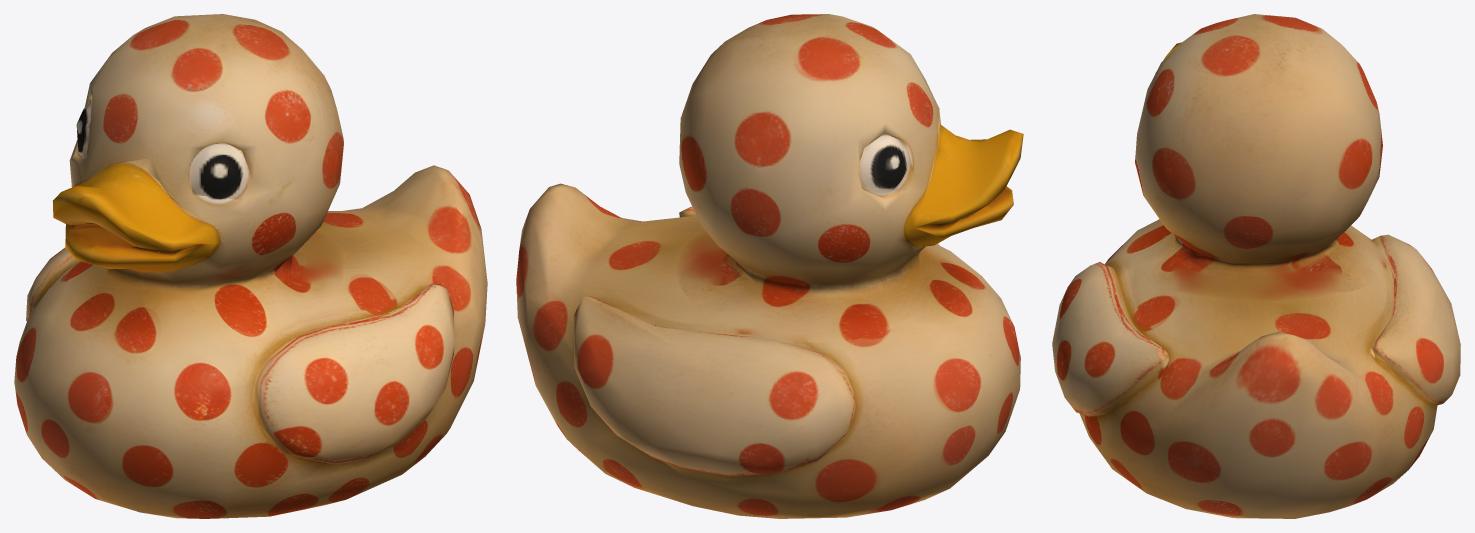
The model's file is Retro Polka Dot Duck.glb.
3 renders of one model, left to right at view 1: azimuth 30°, elevation 25°; view 2: azimuth 150°, elevation 25°; view 3: azimuth 270°, elevation 25°, orthographic. The views are drawn at different scales.
Parts seen in each view (by area): view 1: Retro Polka Dot Duck; view 2: Retro Polka Dot Duck; view 3: Retro Polka Dot Duck.
Part boxes in pixels (x1,y1,x2,y2): Retro Polka Dot Duck: (14, 14, 487, 518); Retro Polka Dot Duck: (516, 14, 1023, 518); Retro Polka Dot Duck: (1052, 14, 1460, 518).
Size of the model in its own units: 0.1155 by 0.1056 by 0.0979.
1 material, 1 textured.
